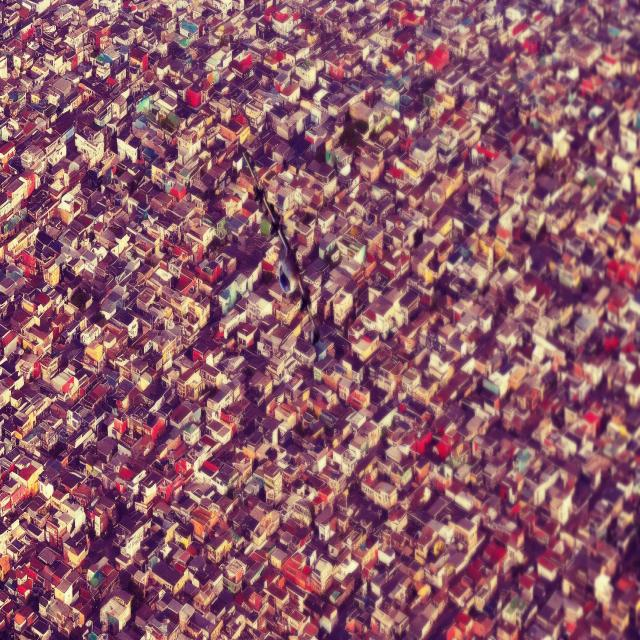airplane: (243, 150, 317, 329)
